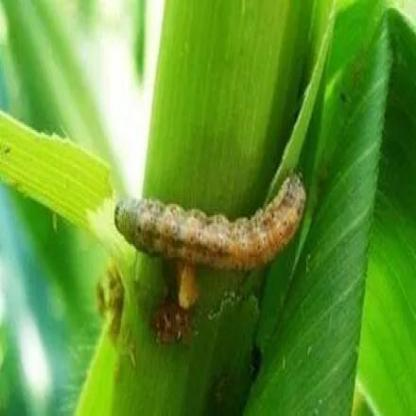armyworm: (109, 173, 313, 277)
